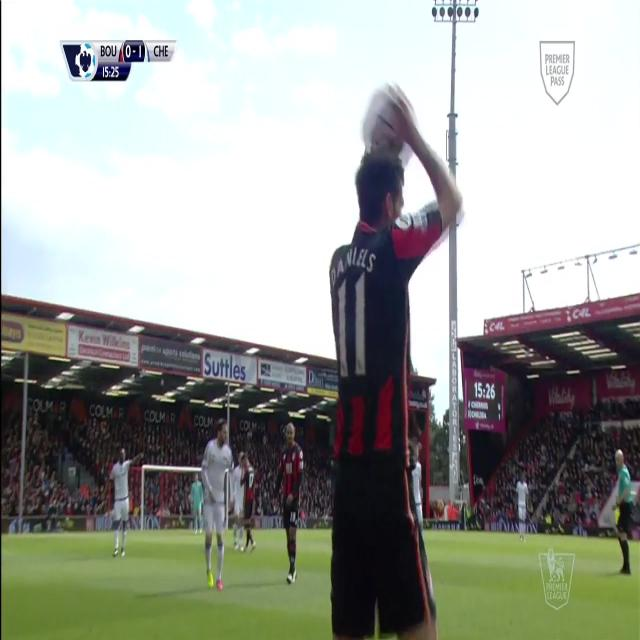Ball: (359, 83, 411, 164)
Goalkeeper: (189, 472, 205, 538)
Player: (328, 93, 462, 640), (201, 417, 233, 592), (273, 420, 305, 585), (108, 448, 146, 561), (238, 454, 258, 553), (516, 474, 532, 544)
Referee: (614, 448, 636, 574)
